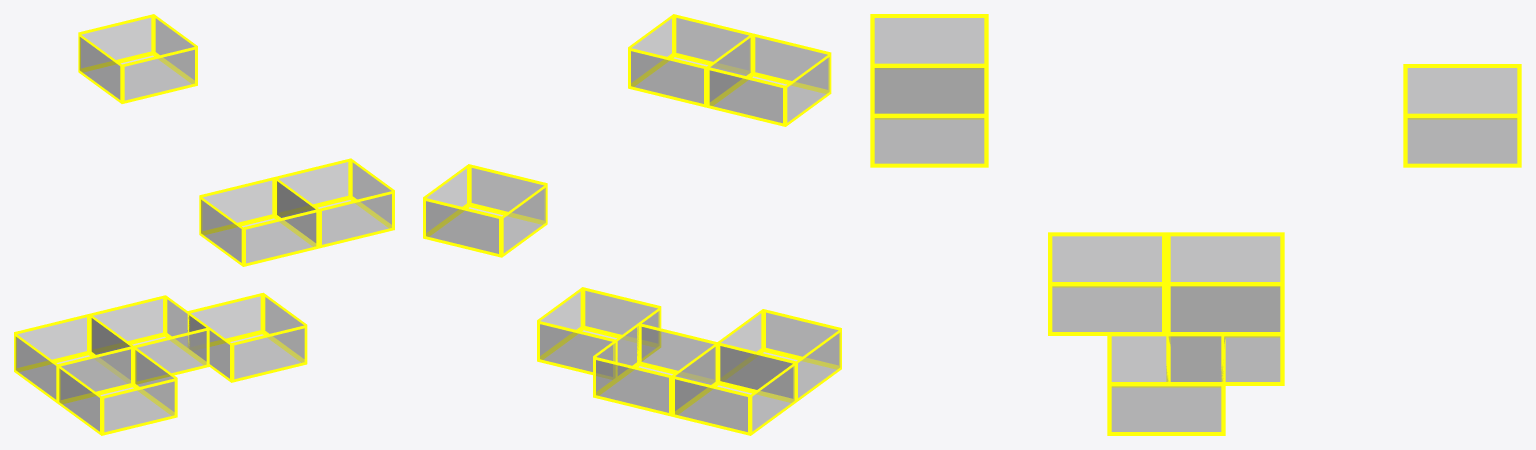
Rendered from (4)H GPlat.fbx.
3 views of the same model, side by side, from view 1: azimuth 30°, elevation 25°; view 2: azimuth 150°, elevation 25°; view 3: azimuth 270°, elevation 25° (orthographic). The views are drawn at different scales.
Parts seen in each view (by area): view 1: Platform.005, Platform.004, Platform.002, Platform.003, Platform.009, Platform.007, Platform.006; view 2: Platform.005, Platform.004, Platform.007, Platform.003, Platform.009, Platform.006, Platform.002; view 3: Platform.005, Platform.003, Platform.009, Platform.002, Platform.006, Platform.007, Platform.004.
Boxes of the visible parts, x1,y1,x2,y2 form: Platform.005: [78, 14, 197, 103]; Platform.004: [199, 177, 318, 266]; Platform.002: [187, 292, 307, 382]; Platform.003: [275, 158, 394, 248]; Platform.009: [58, 346, 177, 435]; Platform.007: [14, 313, 133, 403]; Platform.006: [90, 295, 209, 384]; Platform.005: [423, 164, 547, 257]; Platform.004: [707, 33, 831, 126]; Platform.007: [672, 342, 796, 435]; Platform.003: [628, 14, 752, 107]; Platform.009: [717, 309, 841, 402]; Platform.006: [593, 323, 717, 416]; Platform.002: [537, 287, 661, 380]; Platform.005: [1403, 64, 1521, 167]; Platform.003: [870, 64, 988, 167]; Platform.009: [1048, 232, 1166, 335]; Platform.002: [1107, 332, 1225, 435]; Platform.006: [1166, 282, 1284, 385]; Platform.007: [1166, 232, 1284, 332]; Platform.004: [870, 14, 988, 113].
Bounding box in the file's own units: 600 × 600 × 1100.
